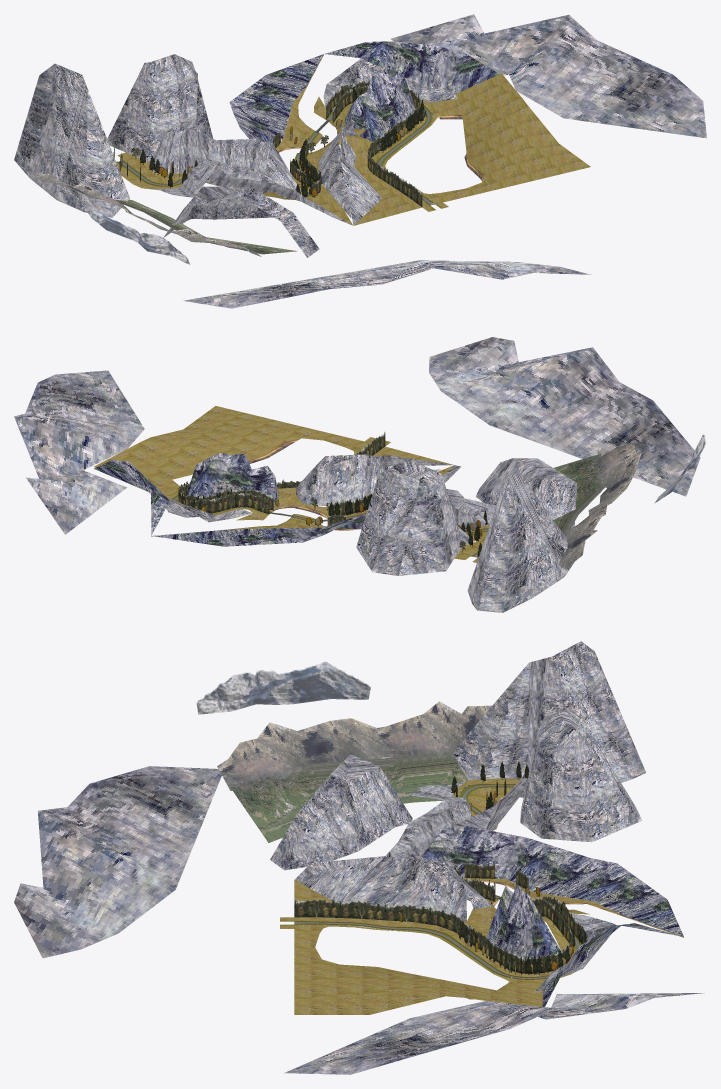
File: stage-yose-env.glb
3 renders of one model, top to bottom at view 1: azimuth 30°, elevation 25°; view 2: azimuth 150°, elevation 25°; view 3: azimuth 270°, elevation 25°, orthographic. The views are drawn at different scales.
Visible parts, largest first — view 1: env part 0 chunk 5,-4, env part 0 chunk -7,-5, env part 0 chunk 2,-3, env part 0 chunk -4,-6, env part 0 chunk -3,3, env part 0 chunk -1,-5, env part 0 chunk -4,-4, env part 0 chunk 2,-6, env part 0 chunk -5,-1, env part 0 chunk 0,-3, env part 0 chunk 1,-5, env part 0 chunk -4,-2 (+11 smaller); view 2: env part 0 chunk -3,3, env part 0 chunk 5,-4, env part 0 chunk -4,-6, env part 0 chunk -7,-5, env part 0 chunk 2,-3, env part 0 chunk -1,-3, env part 0 chunk -1,-5, env part 0 chunk -5,-1, env part 0 chunk 1,-5, env part 0 chunk -6,-2, env part 0 chunk -6,-1, env part 0 chunk 2,-6 (+9 smaller); view 3: env part 0 chunk -3,3, env part 0 chunk -7,-5, env part 0 chunk -1,-5, env part 0 chunk -4,-6, env part 0 chunk 2,-3, env part 0 chunk 5,-4, env part 0 chunk -5,-1, env part 0 chunk -6,-2, env part 0 chunk -6,-1, env part 0 chunk -2,-2, env part 0 chunk -8,0, env part 0 chunk -7,-3 (+13 smaller).
Part boxes in pixels (bbox=[...]): env part 0 chunk 5,-4: bbox=[390, 14, 706, 138]; env part 0 chunk -7,-5: bbox=[14, 63, 129, 217]; env part 0 chunk 2,-3: bbox=[383, 73, 590, 203]; env part 0 chunk -4,-6: bbox=[107, 54, 213, 162]; env part 0 chunk -3,3: bbox=[183, 260, 591, 308]; env part 0 chunk -1,-5: bbox=[229, 54, 337, 192]; env part 0 chunk -4,-4: bbox=[116, 129, 313, 201]; env part 0 chunk 2,-6: bbox=[325, 41, 499, 104]; env part 0 chunk -5,-1: bbox=[163, 186, 319, 257]; env part 0 chunk 0,-3: bbox=[300, 103, 428, 225]; env part 0 chunk 1,-5: bbox=[344, 69, 415, 141]; env part 0 chunk -4,-2: bbox=[144, 159, 352, 225]; env part 0 chunk -3,3: bbox=[429, 337, 700, 496]; env part 0 chunk 5,-4: bbox=[14, 370, 144, 534]; env part 0 chunk -4,-6: bbox=[356, 458, 461, 575]; env part 0 chunk -7,-5: bbox=[467, 474, 574, 612]; env part 0 chunk 2,-3: bbox=[94, 406, 370, 498]; env part 0 chunk -1,-3: bbox=[296, 454, 389, 506]; env part 0 chunk -1,-5: bbox=[153, 505, 366, 546]; env part 0 chunk -5,-1: bbox=[476, 458, 576, 528]; env part 0 chunk 1,-5: bbox=[186, 453, 278, 503]; env part 0 chunk -6,-2: bbox=[553, 454, 606, 536]; env part 0 chunk -6,-1: bbox=[588, 444, 641, 515]; env part 0 chunk 2,-6: bbox=[94, 459, 171, 535]; env part 0 chunk -3,3: bbox=[14, 766, 221, 958]; env part 0 chunk -7,-5: bbox=[453, 641, 646, 782]; env part 0 chunk -1,-5: bbox=[422, 826, 683, 936]; env part 0 chunk -4,-6: bbox=[520, 709, 641, 842]; env part 0 chunk 2,-3: bbox=[294, 925, 542, 1014]; env part 0 chunk 5,-4: bbox=[284, 993, 704, 1074]; env part 0 chunk -5,-1: bbox=[270, 754, 412, 870]; env part 0 chunk -6,-2: bbox=[231, 751, 467, 842]; env part 0 chunk -6,-1: bbox=[217, 718, 383, 790]; env part 0 chunk -2,-2: bbox=[295, 856, 466, 920]; env part 0 chunk -8,0: bbox=[196, 661, 370, 714]; env part 0 chunk -7,-3: bbox=[377, 701, 491, 758].
Bounding box in the file's own units: 4698 × 920 × 3864.
18 materials, 18 textured.
